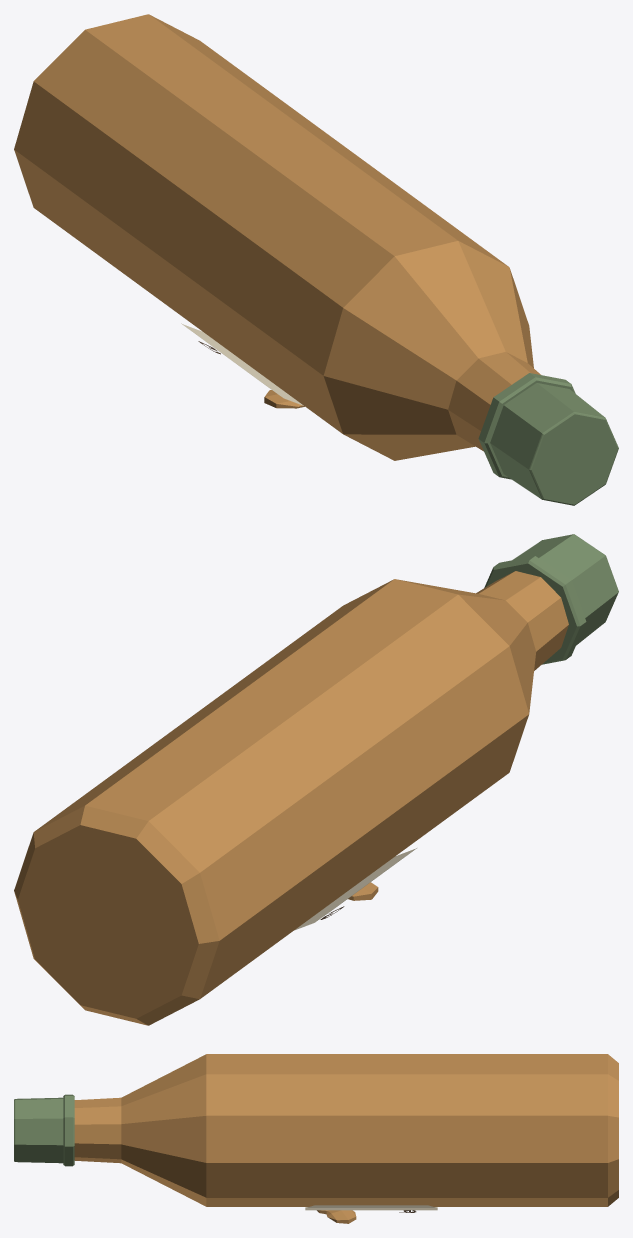
The model's file is ginger_ale.glb.
3 renders of one model, top to bottom at view 1: azimuth 30°, elevation 25°; view 2: azimuth 150°, elevation 25°; view 3: azimuth 270°, elevation 25°, orthographic. The views are drawn at different scales.
Visible parts, largest first — view 1: ginger_ale; view 2: ginger_ale; view 3: ginger_ale.
Boxes of the visible parts, left/top/right/bottom form: ginger_ale: left=14, top=14, right=618, bottom=505; ginger_ale: left=14, top=534, right=618, bottom=1025; ginger_ale: left=14, top=1054, right=618, bottom=1223.
Size of the model in its own units: 0.056 by 0.0583 by 0.22.
